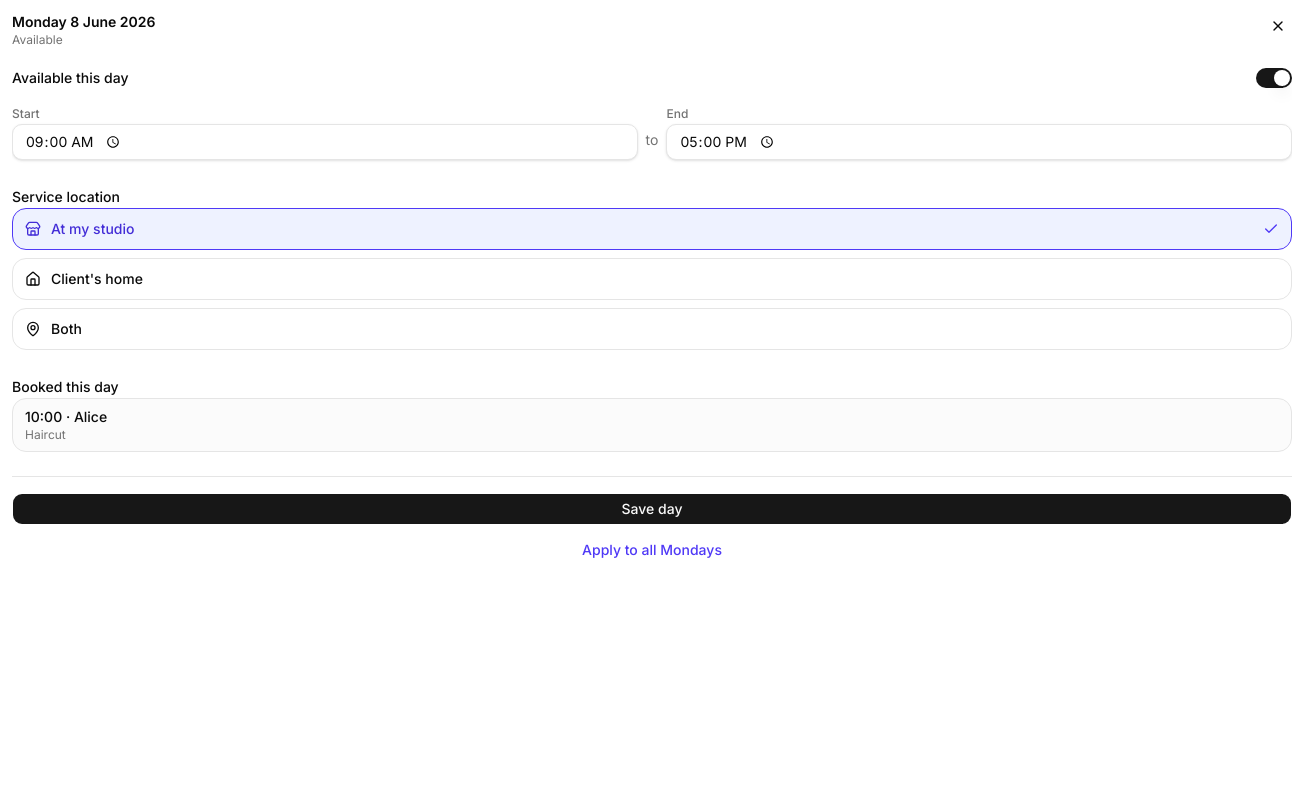
AvailabilityDayPanel › disables Apply-to-weekday when the day is off
Click the switch named "available this day".
click(1274, 78)  # box [1256, 68, 1292, 88]
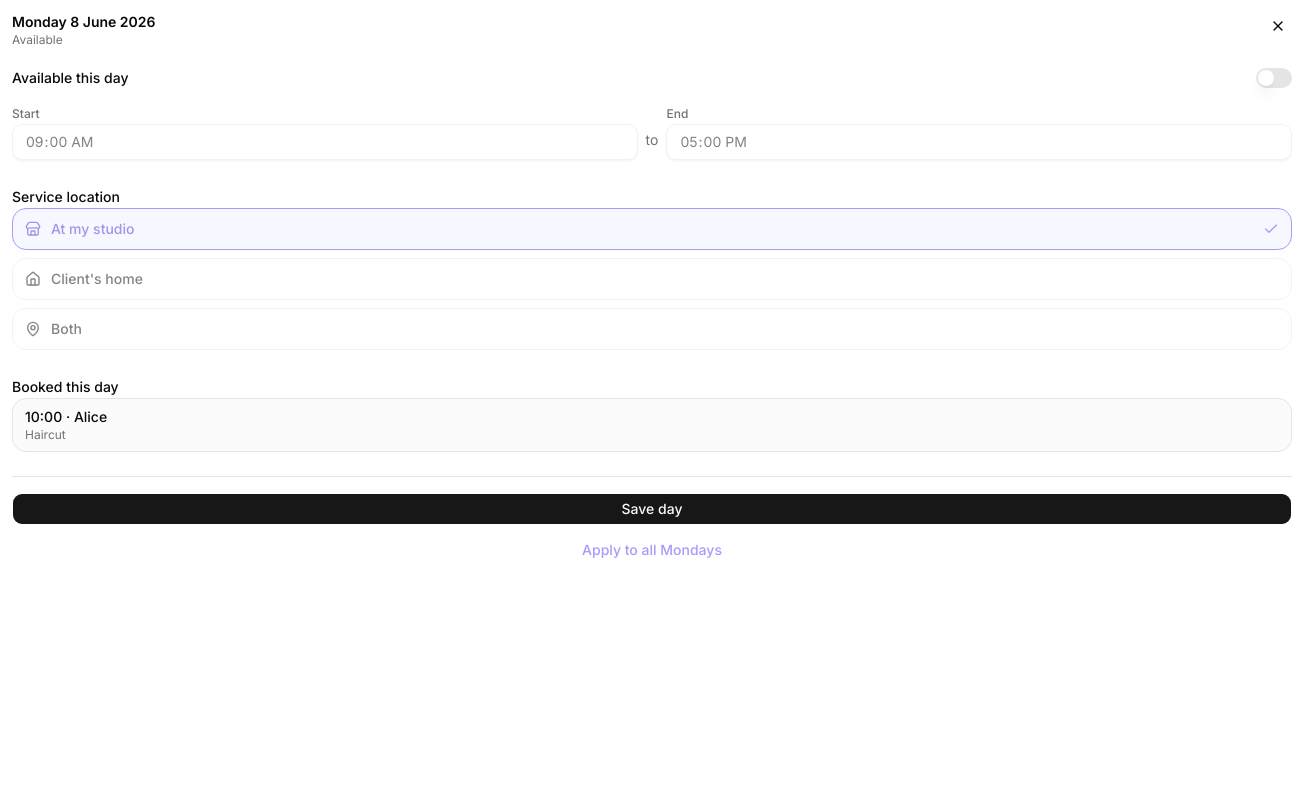
Expected: the button "Apply to all Mondays" is disabled, [12, 540, 1292, 560]
